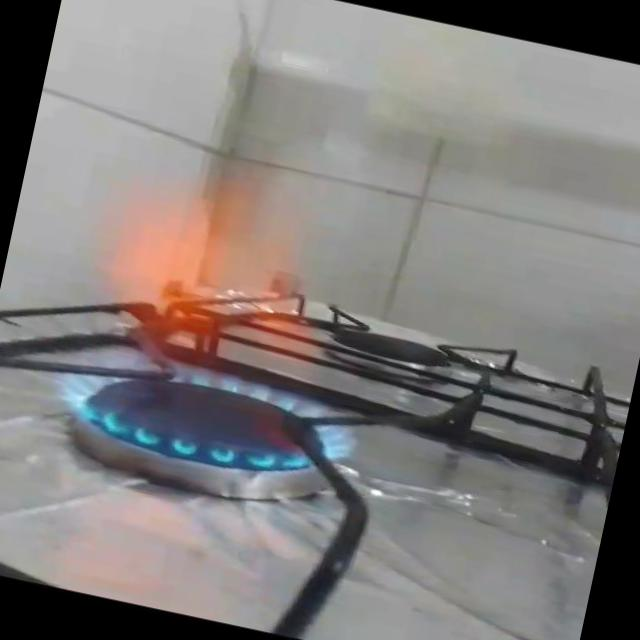Fire: (36, 122, 414, 492)
